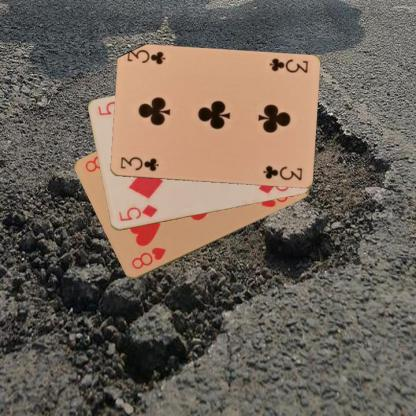3c: (117, 154, 160, 173), (266, 56, 309, 74)
5d: (116, 202, 158, 223)
8h: (128, 244, 167, 271)
